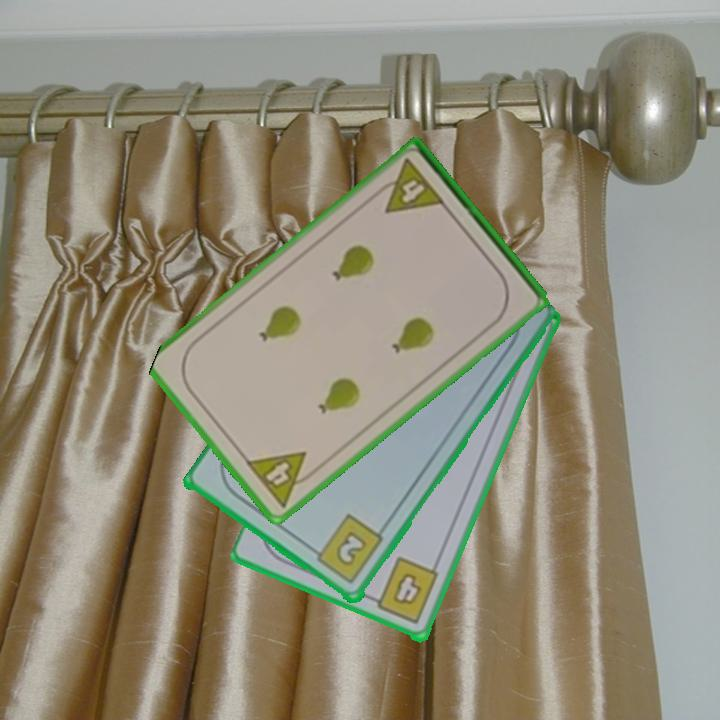2b: (306, 511, 387, 588)
4b: (365, 554, 442, 628)
4p: (242, 448, 322, 511), (370, 155, 448, 217)
